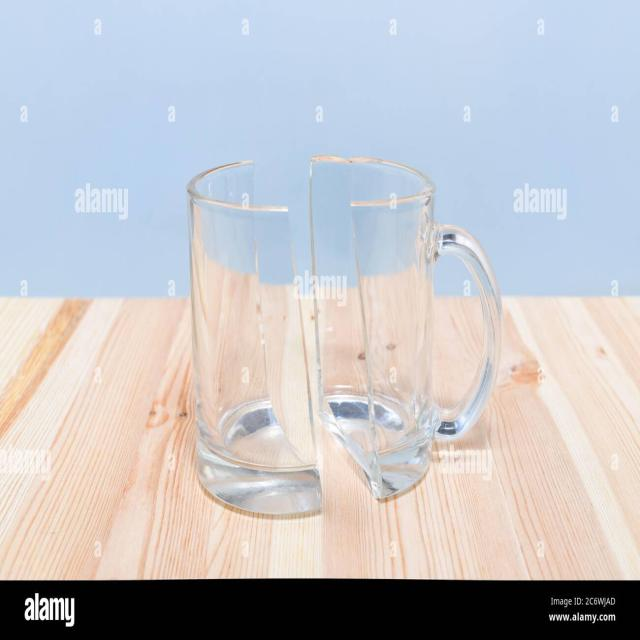Dry Waste: (309, 150, 503, 501), (188, 156, 324, 518)
